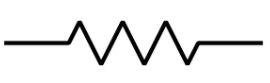resistor: (57, 15, 212, 71)
